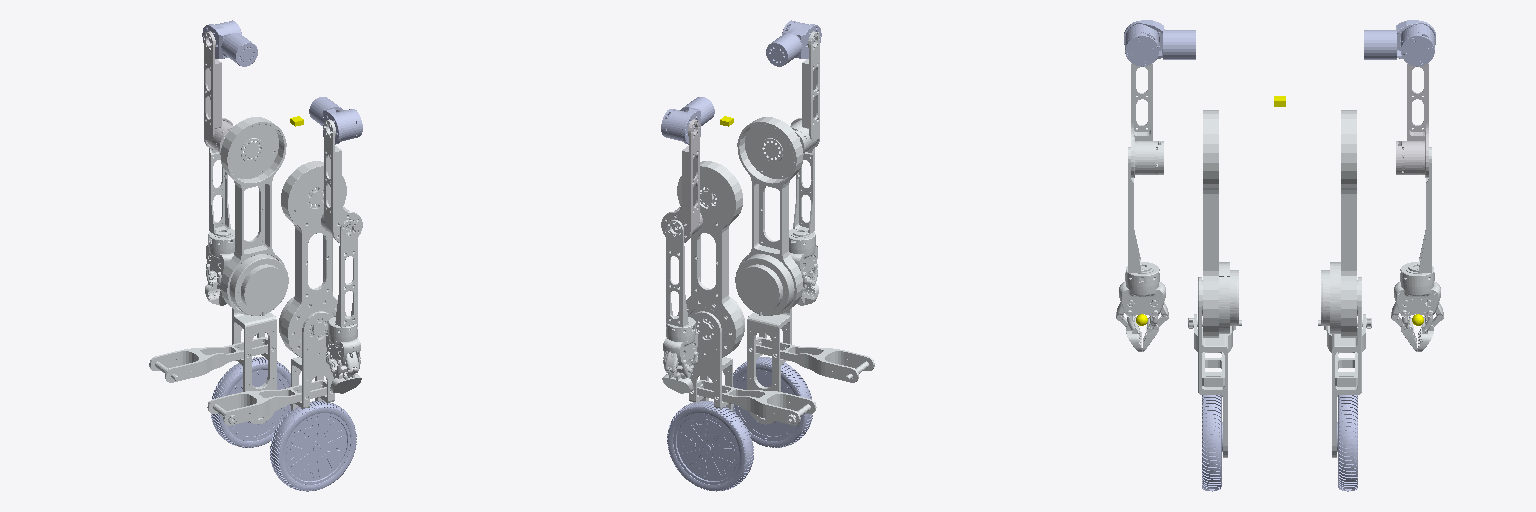
robot.urdf — JC04:
<?xml version="1.0" encoding="utf-8" ?>
<!-- This URDF was automatically created by SolidWorks to URDF Exporter! Originally created by Stephen Brawner (brawner@gmail.com) 
     Commit Version: 1.6.0-4-g7f85cfe  Build Version: 1.6.7995.38578
     For more information, please see http://wiki.ros.org/sw_urdf_exporter -->
<robot name="JC04">

  <link name="base_link" />
  <joint name="base_joint" type="fixed">
    <origin xyz="0.0 0.0 0.0" rpy="0.0 0.0 0.0"/>
    <parent link="base_link"/>
    <child link="robot_base"/>
  </joint>

  <link name="robot_base">
    <inertial>
      <origin
        xyz="0.00279599028785659 -0.00309527896029086 0.00100528530573224"
        rpy="0 0 0" />
      <mass value="4.65227042570059" />
      <inertia
        ixx="0.0124772773687596"
        ixy="6.25370320375245E-06"
        ixz="5.33449617362527E-05"
        iyy="0.00973857901859492"
        iyz="-9.29371193543139E-07"
        izz="0.0118237873542649" />
    </inertial>
    <visual>
      <origin
        xyz="0 0 0"
        rpy="0 0 0" />
      <geometry>
        <mesh
          filename="../meshes/robot_base.STL" />
      </geometry>
      <material
        name="">
        <color
          rgba="0.698039215686274 0.698039215686274 0.698039215686274 1" />
      </material>
    </visual>
    <collision>
      <origin
        xyz="0 0 0"
        rpy="0 0 0" />
      <geometry>
        <mesh
          filename="../meshes/robot_base.STL" />
      </geometry>
    </collision>
  </link>
  <link  name="imu_link">
    <inertial>
      <origin xyz="0.0 0.0 0.0" rpy="0.0 0.0 0.0"></origin>
      <mass value="0.0"></mass>
      <inertia ixx="0.0" ixy="0.0" ixz="0.0" iyy="0.0" iyz="0.0" izz="0.0"></inertia>
    </inertial>
    <visual>
      <origin xyz="0.0 0.0 0.0" rpy="0.0 0.0 0.0"></origin>
      <geometry>
        <box size="0.02 0.02 0.01"></box>
      </geometry>
      <material name="yellow">
        <color rgba="1 1 0 1" />
      </material>
    </visual>
    <collision>
      <origin xyz="0.0 0.0 0.0" rpy="0.0 0.0 0.0"></origin>
      <geometry>
        <box size="0.02 0.02 0.01"></box>
      </geometry>
    </collision>
  </link>
  <joint name="imu_joint" type="fixed">
    <origin xyz="0.03 0.0 0.005" rpy="0.0 0.0 0.0"/>
    <parent link="robot_base"/>
    <child link="imu_link"/>
  </joint>


  <link name="right_hip_pitch_link">
    <inertial>
      <origin
        xyz="2.2401864532628E-05 -7.01518108221916E-05 -0.119089068297364"
        rpy="0 0 0" />
      <mass
        value="0.835029440654341" />
      <inertia
        ixx="0.0128640884370142"
        ixy="-1.01573799175438E-07"
        ixz="1.43969539586498E-06"
        iyy="0.0139177008224207"
        iyz="-7.20971608196484E-05"
        izz="0.00115185690918774" />
    </inertial>
    <visual>
      <origin
        xyz="0 0 0"
        rpy="0 0 0" />
      <geometry>
        <mesh
          filename="../meshes/right_hip_pitch_link.STL" />
      </geometry>
      <material
        name="">
        <color
          rgba="0.898039215686275 0.917647058823529 0.929411764705882 1" />
      </material>
    </visual>
    <collision>
      <origin
        xyz="0 0 0"
        rpy="0 0 0" />
      <geometry>
        <mesh
          filename="../meshes/right_hip_pitch_link.STL" />
      </geometry>
    </collision>
  </link>
  <joint name="right_hip_pitch" type="revolute">
    <origin
      xyz="0 -0.1205 -0.098"
      rpy="0 0 0" />
    <parent
      link="robot_base" />
    <child
      link="right_hip_pitch_link" />
    <axis
      xyz="0 1 0" />
    <limit
      lower="-1.5708"
      upper="1.5708"
      effort="100.0"
      velocity="100.0" />
  </joint>
  <link name="right_knee_pitch_link">
    <inertial>
      <origin
        xyz="-0.0370926236175052 0.0102934790640932 -0.118658382266855"
        rpy="0 0 0" />
      <mass
        value="0.758037246379502" />
      <inertia
        ixx="0.00391729912353151"
        ixy="-2.74945911506093E-09"
        ixz="7.97046637729609E-15"
        iyy="0.00469716796826955"
        iyz="-0.000585098402656398"
        izz="0.00138299752551484" />
    </inertial>
    <visual>
      <origin
        xyz="0 0 0"
        rpy="0 0 0" />
      <geometry>
        <mesh
          filename="../meshes/right_knee_pitch_link.STL" />
      </geometry>
      <material
        name="">
        <color
          rgba="0.898039215686275 0.917647058823529 0.929411764705882 1" />
      </material>
    </visual>
    <collision>
      <origin
        xyz="0 0 0"
        rpy="0 0 0" />
      <geometry>
        <mesh
          filename="../meshes/right_knee_pitch_link.STL" />
      </geometry>
    </collision>
  </link>
  <joint name="right_knee_pitch" type="revolute">
    <origin
      xyz="0 -0.0025 -0.275"
      rpy="0 0 0" />
    <parent
      link="right_hip_pitch_link" />
    <child
      link="right_knee_pitch_link" />
    <axis
      xyz="0 -1 0" />
    <limit
      lower="-1.5708"
      upper="1.5708"
      effort="100.0"
      velocity="100.0" />
  </joint>
  <link name="right_driving_wheel">
    <inertial>
      <origin
        xyz="-1.39109638608807E-07 0.000947014268736196 3.5371749776969E-06"
        rpy="0 0 0" />
      <mass
        value="0.63865544033292" />
      <inertia
        ixx="0.00125776029366537"
        ixy="-1.01616021250209E-09"
        ixz="-1.36649916006925E-10"
        iyy="0.00241337774863598"
        iyz="-4.41959293887157E-08"
        izz="0.00125808821267324" />
    </inertial>
    <visual>
      <origin
        xyz="0 0 0"
        rpy="0 0 0" />
      <geometry>
        <mesh
          filename="../meshes/right_driving_wheel.STL" />
      </geometry>
      <material
        name="">
        <color
          rgba="0.792156862745098 0.819607843137255 0.933333333333333 1" />
      </material>
    </visual>
    <collision>
      <!-- <origin xyz="0 0 0" rpy="0 0 0" />
      <geometry>
        <mesh filename="../meshes/right_driving_wheel.STL" />
      </geometry> -->
      <origin xyz="0 0 0" rpy="1.5708 0 0" />
      <geometry>
        <cylinder length="0.03" radius="0.09" />
      </geometry>
    </collision>
  </link>
  <joint name="right_wheel_joint" type="continuous">
    <origin
      xyz="0 0.0087 -0.257"
      rpy="0 0 0" />
    <parent
      link="right_knee_pitch_link" />
    <child
      link="right_driving_wheel" />
    <axis
      xyz="0 1 0" />
    <limit
      effort="100.0"
      velocity="100.0" />
  </joint>
  <link name="right_assist_wheel">
    <inertial>
      <origin
        xyz="1.26617332915635E-06 1.16008196243689E-08 -2.83137595435967E-06"
        rpy="0 0 0" />
      <mass
        value="0.279818998339655" />
      <inertia
        ixx="0.000330068456792498"
        ixy="-3.04722997571781E-09"
        ixz="-1.32284902672776E-08"
        iyy="0.000573287074626127"
        iyz="-1.36068546863382E-09"
        izz="0.000330045382623104" />
    </inertial>
    <visual>
      <origin
        xyz="0 0 0"
        rpy="0 0 0" />
      <geometry>
        <mesh
          filename="../meshes/right_assist_wheel.STL" />
      </geometry>
      <material
        name="">
        <color
          rgba="0.752941176470588 0.752941176470588 0.752941176470588 1" />
      </material>
    </visual>
    <collision>
      <!-- <origin xyz="0 0 0" rpy="0 0 0" />
      <geometry>
        <mesh filename="../meshes/right_assist_wheel.STL" />
      </geometry> -->
      <origin xyz="0 0 0" rpy="1.5708 0 0" />
      <geometry>
        <cylinder length="0.044" radius="0.063" />
      </geometry>
    </collision>
  </link>
  <joint name="right_assist" type="fixed">
    <origin
      xyz="-0.2 0.011 -0.13951"
      rpy="0 0 0" />
    <parent
      link="right_knee_pitch_link" />
    <child
      link="right_assist_wheel" />
    <axis
      xyz="0 0 0" />
  </joint>


  <link name="left_hip_pitch_link">
    <inertial>
      <origin
        xyz="-2.24018645326727E-05 7.01518108218585E-05 -0.119089068297364"
        rpy="0 0 0" />
      <mass
        value="0.835029440654342" />
      <inertia
        ixx="0.0128640884370142"
        ixy="-1.0157379917552E-07"
        ixz="-1.43969539586481E-06"
        iyy="0.0139177008224208"
        iyz="7.209716081968E-05"
        izz="0.00115185690918775" />
    </inertial>
    <visual>
      <origin
        xyz="0 0 0"
        rpy="0 0 0" />
      <geometry>
        <mesh
          filename="../meshes/left_hip_pitch_link.STL" />
      </geometry>
      <material
        name="">
        <color
          rgba="0.898039215686275 0.917647058823529 0.929411764705882 1" />
      </material>
    </visual>
    <collision>
      <origin
        xyz="0 0 0"
        rpy="0 0 0" />
      <geometry>
        <mesh
          filename="../meshes/left_hip_pitch_link.STL" />
      </geometry>
    </collision>
  </link>
  <joint name="left_hip_pitch" type="revolute">
    <origin
      xyz="0 0.1205 -0.098"
      rpy="0 0 0" />
    <parent
      link="robot_base" />
    <child
      link="left_hip_pitch_link" />
    <axis
      xyz="0 1 0" />
    <limit
      lower="-1.5708"
      upper="1.5708"
      effort="100.0"
      velocity="100.0" />
  </joint>
  <link name="left_knee_pitch_link">
    <inertial>
      <origin
        xyz="-0.0370926236175317 -0.0102935438956814 -0.118658382266885"
        rpy="0 0 0" />
      <mass
        value="0.758037246379501" />
      <inertia
        ixx="0.00391729912353151"
        ixy="-2.7494582745576E-09"
        ixz="-7.97158747603537E-15"
        iyy="0.00469716796826954"
        iyz="0.000585098298460312"
        izz="0.00138299752551484" />
    </inertial>
    <visual>
      <origin
        xyz="0 0 0"
        rpy="0 0 0" />
      <geometry>
        <mesh
          filename="../meshes/left_knee_pitch_link.STL" />
      </geometry>
      <material
        name="">
        <color
          rgba="0.898039215686275 0.917647058823529 0.929411764705882 1" />
      </material>
    </visual>
    <collision>
      <origin
        xyz="0 0 0"
        rpy="0 0 0" />
      <geometry>
        <mesh
          filename="../meshes/left_knee_pitch_link.STL" />
      </geometry>
    </collision>
  </link>
  <joint name="left_knee_pitch" type="revolute">
    <origin
      xyz="0 0.0025 -0.275"
      rpy="0 0 0" />
    <parent
      link="left_hip_pitch_link" />
    <child
      link="left_knee_pitch_link" />
    <axis
      xyz="0 -1 0" />
    <limit
      lower="-1.5708"
      upper="1.5708"
      effort="100.0"
      velocity="100.0" />
  </joint>
  <link name="left_driving_wheel">
    <inertial>
      <origin
        xyz="1.3910963880233E-07 -0.00094701426873621 3.53717497736383E-06"
        rpy="0 0 0" />
      <mass
        value="0.638655440332923" />
      <inertia
        ixx="0.00125776029366308"
        ixy="-1.01616021285817E-09"
        ixz="1.36649910906935E-10"
        iyy="0.00241337774863368"
        iyz="4.41959293914977E-08"
        izz="0.00125808821267324" />
    </inertial>
    <visual>
      <origin
        xyz="0 0 0"
        rpy="0 0 0" />
      <geometry>
        <mesh
          filename="../meshes/left_driving_wheel.STL" />
      </geometry>
      <material
        name="">
        <color
          rgba="0.792156862745098 0.819607843137255 0.933333333333333 1" />
      </material>
    </visual>
    <collision>
      <!-- <origin xyz="0 0 0" rpy="0 0 0" />
      <geometry>
        <mesh filename="../meshes/left_driving_wheel.STL" />
      </geometry> -->
      <origin xyz="0 0 0" rpy="-1.5708 0 0" />
      <geometry>
        <cylinder length="0.03" radius="0.09" />
      </geometry>
    </collision>
  </link>
  <joint name="left_wheel_joint" type="continuous">
    <origin
      xyz="0 -0.0087 -0.257"
      rpy="0 0 0" />
    <parent
      link="left_knee_pitch_link" />
    <child
      link="left_driving_wheel" />
    <axis
      xyz="0 1 0" />
    <limit
      effort="100.0"
      velocity="100.0" />
  </joint>
  <link name="left_assist_wheel">
    <inertial>
      <origin
        xyz="2.86482405698063E-06 9.86627492205461E-09 1.1880404016118E-06"
        rpy="0 0 0" />
      <mass
        value="0.279818886368346" />
      <inertia
        ixx="0.000330044572565077"
        ixy="1.27663722832215E-09"
        ixz="1.25760749444105E-08"
        iyy="0.000573286890349861"
        iyz="-3.08379978667986E-09"
        izz="0.000330069062722403" />
    </inertial>
    <visual>
      <origin
        xyz="0 0 0"
        rpy="0 0 0" />
      <geometry>
        <mesh
          filename="../meshes/left_assist_wheel.STL" />
      </geometry>
      <material
        name="">
        <color
          rgba="0.752941176470588 0.752941176470588 0.752941176470588 1" />
      </material>
    </visual>
    <collision>
      <!-- <origin xyz="0 0 0" rpy="0 0 0" />
      <geometry>
        <mesh filename="../meshes/left_assist_wheel.STL" />
      </geometry> -->
      <origin xyz="0 0 0" rpy="-1.5708 0 0" />
      <geometry>
        <cylinder length="0.044" radius="0.063" />
      </geometry>
    </collision>
  </link>
  <joint name="left_assist" type="fixed">
    <origin
      xyz="-0.2 -0.011 -0.13951"
      rpy="0 0 0" />
    <parent
      link="left_knee_pitch_link" />
    <child
      link="left_assist_wheel" />
    <axis
      xyz="0 0 0" />
  </joint>


  <link name="right_shoulder_pitch_link">
    <inertial>
      <origin
        xyz="-0.00585417482108038 9.52809515329667E-06 0.0375144921098239"
        rpy="0 0 0" />
      <mass
        value="0.0635419817425983" />
      <inertia
        ixx="7.43610063397952E-05"
        ixy="-4.25752984036391E-09"
        ixz="-1.55304093438244E-05"
        iyy="7.27467171836457E-05"
        iyz="1.86114889179868E-08"
        izz="3.66587397490808E-05" />
    </inertial>
    <visual>
      <origin
        xyz="0 0 0"
        rpy="0 0 0" />
      <geometry>
        <mesh
          filename="../meshes/right_shoulder_pitch_link.STL" />
      </geometry>
      <material
        name="">
        <color
          rgba="0.792156862745098 0.819607843137255 0.933333333333333 1" />
      </material>
    </visual>
    <collision>
      <origin
        xyz="0 0 0"
        rpy="0 0 0" />
      <geometry>
        <mesh
          filename="../meshes/right_shoulder_pitch_link.STL" />
      </geometry>
    </collision>
  </link>
  <joint name="right_shoulder_pitch" type="revolute">
    <origin
      xyz="0 -0.141 0.096"
      rpy="1.5708 0 0" />
    <parent
      link="robot_base" />
    <child
      link="right_shoulder_pitch_link" />
    <axis
      xyz="0 0 1" />
    <limit
      lower="-3.1416"
      upper="3.1416"
      effort="100.0"
      velocity="100.0" />
  </joint>
  <link name="right_shoulder_roll_link">
    <inertial>
      <origin
        xyz="-0.12002540538697 0.00316375976277605 0.00362387585358725"
        rpy="0 0 0" />
      <mass
        value="0.15979125931168" />
      <inertia
        ixx="6.1224200840068E-05"
        ixy="-4.40183246102279E-05"
        ixz="-7.22741795913562E-05"
        iyy="0.000829332996020636"
        iyz="9.86607542060078E-06"
        izz="0.000828129978269191" />
    </inertial>
    <visual>
      <origin
        xyz="0 0 0"
        rpy="0 0 0" />
      <geometry>
        <mesh
          filename="../meshes/right_shoulder_roll_link.STL" />
      </geometry>
      <material
        name="">
        <color
          rgba="0.898039215686275 0.917647058823529 0.929411764705882 1" />
      </material>
    </visual>
    <collision>
      <origin
        xyz="0 0 0"
        rpy="0 0 0" />
      <geometry>
        <mesh
          filename="../meshes/right_shoulder_roll_link.STL" />
      </geometry>
    </collision>
  </link>
  <joint name="right_shoulder_roll" type="revolute">
    <origin
      xyz="-0.026 0 0.09"
      rpy="1.5708 0 1.5708" />
    <parent
      link="right_shoulder_pitch_link" />
    <child
      link="right_shoulder_roll_link" />
    <axis
      xyz="0 0 -1" />
    <limit
      lower="0"
      upper="3.1416"
      effort="100.0"
      velocity="100.0" />
  </joint>
  <link name="right_elbow_pitch_link">
    <inertial>
      <origin
        xyz="0.000170563838991317 -0.129453686859726 0.0014621063155601"
        rpy="0 0 0" />
      <mass
        value="0.124323016491181" />
      <inertia
        ixx="0.0005174170410046"
        ixy="1.69448086141307E-07"
        ixz="9.03167635139747E-09"
        iyy="4.08467941001226E-05"
        iyz="-2.03747158813545E-05"
        izz="0.000530347087134447" />
    </inertial>
    <visual>
      <origin
        xyz="0 0 0"
        rpy="0 0 0" />
      <geometry>
        <mesh
          filename="../meshes/right_elbow_pitch_link.STL" />
      </geometry>
      <material
        name="">
        <color
          rgba="0.898039215686275 0.917647058823529 0.929411764705882 1" />
      </material>
    </visual>
    <collision>
      <origin
        xyz="0 0 0"
        rpy="0 0 0" />
      <geometry>
        <mesh
          filename="../meshes/right_elbow_pitch_link.STL" />
      </geometry>
    </collision>
  </link>
  <joint name="right_elbow_pitch" type="revolute">
    <origin
      xyz="-0.21 0.0154999999999963 0.025"
      rpy="1.5707963267949 1.5707963267949 0" />
    <parent
      link="right_shoulder_roll_link" />
    <child
      link="right_elbow_pitch_link" />
    <axis
      xyz="0 0 -1" />
    <limit
      lower="-1.5708"
      upper="2.3562"
      effort="100.0"
      velocity="100.0" />
  </joint>


  <link name="right_gripper">
    <inertial>
      <origin xyz="0 0 0" rpy="0 0 0" />
      <mass value="0.0" />
      <inertia
        ixx="0.0"
        ixy="0.0"
        ixz="0.0"
        iyy="0.0"
        iyz="0.0"
        izz="0.0" />
    </inertial>
    <visual>
      <origin xyz="0 0 0" rpy="0 0 0" />
      <geometry>
        <sphere radius="0.01" />
      </geometry>
      <material name="yellow">
        <color rgba="1 1 0 1" />
      </material>
    </visual>
    <collision>
      <origin xyz="0 0 0" rpy="0 0 0" />
      <geometry>
        <sphere radius="0.01" />
      </geometry>
    </collision>
  </link>
  <joint name="right_gripper_joint" type="fixed">
    <origin xyz="0 -0.30 0.015" rpy="1.5708 0 -1.5708" />
    <parent link="right_elbow_pitch_link" />
    <child link="right_gripper" />
  </joint>


  <link name="left_shoulder_pitch_link">
    <inertial>
      <origin
        xyz="-0.00585417482108038 -9.5280951533383E-06 -0.0375144921098237"
        rpy="0 0 0" />
      <mass
        value="0.0635419817425984" />
      <inertia
        ixx="7.43610063397949E-05"
        ixy="4.25752984035132E-09"
        ixz="1.55304093438244E-05"
        iyy="7.27467171836455E-05"
        iyz="1.86114889179736E-08"
        izz="3.66587397490808E-05" />
    </inertial>
    <visual>
      <origin
        xyz="0 0 0"
        rpy="0 0 0" />
      <geometry>
        <mesh
          filename="../meshes/left_shoulder_pitch_link.STL" />
      </geometry>
      <material
        name="">
        <color
          rgba="0.792156862745098 0.819607843137255 0.933333333333333 1" />
      </material>
    </visual>
    <collision>
      <origin
        xyz="0 0 0"
        rpy="0 0 0" />
      <geometry>
        <mesh
          filename="../meshes/left_shoulder_pitch_link.STL" />
      </geometry>
    </collision>
  </link>
  <joint name="left_shoulder_pitch" type="revolute">
    <origin
      xyz="0 0.141 0.096"
      rpy="1.5707963267949 0 0" />
    <parent
      link="robot_base" />
    <child
      link="left_shoulder_pitch_link" />
    <axis
      xyz="0 0 1" />
    <limit
      lower="-3.1416"
      upper="3.1416"
      effort="100.0"
      velocity="100.0" />
  </joint>
  <link name="left_shoulder_roll_link">
    <inertial>
      <origin
        xyz="-0.120025356266729 -0.00316374959691668 0.0036238791338875"
        rpy="0 0 0" />
      <mass
        value="0.159791117607463" />
      <inertia
        ixx="6.12241815102793E-05"
        ixy="4.40182238636969E-05"
        ixz="-7.22348579157987E-05"
        iyy="0.000829332551771882"
        iyz="-9.86608337984997E-06"
        izz="0.000828129531131531" />
    </inertial>
    <visual>
      <origin
        xyz="0 0 0"
        rpy="0 0 0" />
      <geometry>
        <mesh
          filename="../meshes/left_shoulder_roll_link.STL" />
      </geometry>
      <material
        name="">
        <color
          rgba="0.866666666666667 0.866666666666667 0.890196078431372 1" />
      </material>
    </visual>
    <collision>
      <origin
        xyz="0 0 0"
        rpy="0 0 0" />
      <geometry>
        <mesh
          filename="../meshes/left_shoulder_roll_link.STL" />
      </geometry>
    </collision>
  </link>
  <joint name="left_shoulder_roll" type="revolute">
    <origin
      xyz="-0.025999999999997 0 -0.09"
      rpy="1.5707963267949 0 1.5707963267949" />
    <parent
      link="left_shoulder_pitch_link" />
    <child
      link="left_shoulder_roll_link" />
    <axis
      xyz="0 0 1" />
    <limit
      lower="0"
      upper="3.1416"
      effort="100.0"
      velocity="100.0" />
  </joint>
  <link name="left_elbow_pitch_link">
    <inertial>
      <origin
        xyz="-0.000170564007737758 -0.12945368685972 -0.00146210663503957"
        rpy="0 0 0" />
      <mass
        value="0.124323016491182" />
      <inertia
        ixx="0.000517417041038377"
        ixy="-1.69448259420353E-07"
        ixz="9.03169892633798E-09"
        iyy="4.08467941000795E-05"
        iyz="2.03747155641419E-05"
        izz="0.000530347087100584" />
    </inertial>
    <visual>
      <origin
        xyz="0 0 0"
        rpy="0 0 0" />
      <geometry>
        <mesh
          filename="../meshes/left_elbow_pitch_link.STL" />
      </geometry>
      <material
        name="">
        <color
          rgba="0.898039215686275 0.917647058823529 0.929411764705882 1" />
      </material>
    </visual>
    <collision>
      <origin
        xyz="0 0 0"
        rpy="0 0 0" />
      <geometry>
        <mesh
          filename="../meshes/left_elbow_pitch_link.STL" />
      </geometry>
    </collision>
  </link>
  <joint name="left_elbow_pitch" type="revolute">
    <origin
      xyz="-0.21 -0.0154999999999967 0.025"
      rpy="1.5707963267949 1.5707963267949 0" />
    <parent
      link="left_shoulder_roll_link" />
    <child
      link="left_elbow_pitch_link" />
    <axis
      xyz="0 0 -1" />
    <limit
      lower="-1.5708"
      upper="2.3562"
      effort="100.0"
      velocity="100.0" />
  </joint>


  <link name="left_gripper">
    <inertial>
      <origin xyz="0 0 0" rpy="0 0 0" />
      <mass value="0.0" />
      <inertia
        ixx="0.0"
        ixy="0.0"
        ixz="0.0"
        iyy="0.0"
        iyz="0.0"
        izz="0.0" />
    </inertial>
    <visual>
      <origin xyz="0 0 0" rpy="0 0 0" />
      <geometry>
        <sphere radius="0.01" />
      </geometry>
      <material name="yellow">
        <color rgba="1 1 0 1" />
      </material>
    </visual>
    <collision>
      <origin xyz="0 0 0" rpy="0 0 0" />
      <geometry>
        <sphere radius="0.01" />
      </geometry>
    </collision>
  </link>
  <joint name="left_gripper_joint" type="fixed">
    <origin xyz="0 -0.30 -0.015" rpy="1.5708 0 -1.5708" />
    <parent link="left_elbow_pitch_link" />
    <child link="left_gripper" />
  </joint>

</robot>

--- Render facts (derived) ---
The picture shows the robot from 3 angles, left to right: view 1: azimuth 30°, elevation 25°; view 2: azimuth 150°, elevation 25°; view 3: azimuth 270°, elevation 25°; orthographic projection.
Model JC04 with 19 links and 18 joints (10 revolute, 2 continuous, 6 fixed), rooted at base_link, posed all joints at 0.
Links seen in each view (by area): view 1: left_hip_pitch_link, right_driving_wheel, right_hip_pitch_link, right_knee_pitch_link, left_knee_pitch_link, right_elbow_pitch_link, left_driving_wheel, left_elbow_pitch_link, right_shoulder_roll_link, left_shoulder_roll_link, left_shoulder_pitch_link, right_shoulder_pitch_link; view 2: right_hip_pitch_link, left_driving_wheel, left_hip_pitch_link, left_knee_pitch_link, right_knee_pitch_link, left_elbow_pitch_link, right_driving_wheel, right_elbow_pitch_link, left_shoulder_roll_link, right_shoulder_roll_link, right_shoulder_pitch_link, left_shoulder_pitch_link; view 3: right_hip_pitch_link, left_hip_pitch_link, right_elbow_pitch_link, left_elbow_pitch_link, right_shoulder_pitch_link, left_shoulder_pitch_link, right_knee_pitch_link, left_knee_pitch_link, right_shoulder_roll_link, left_shoulder_roll_link, left_driving_wheel, right_driving_wheel.
Link boxes in pixels (x1,y1,x2,y2): left_hip_pitch_link: [220, 117, 288, 315]; right_driving_wheel: [270, 401, 356, 491]; right_hip_pitch_link: [279, 161, 346, 357]; right_knee_pitch_link: [207, 311, 334, 425]; left_knee_pitch_link: [149, 308, 276, 424]; right_elbow_pitch_link: [326, 220, 361, 393]; left_driving_wheel: [211, 357, 290, 447]; left_elbow_pitch_link: [205, 148, 234, 305]; right_shoulder_roll_link: [321, 119, 362, 242]; left_shoulder_roll_link: [204, 31, 233, 152]; left_shoulder_pitch_link: [202, 20, 257, 66]; right_shoulder_pitch_link: [309, 97, 362, 144]; right_hip_pitch_link: [735, 117, 803, 315]; left_driving_wheel: [667, 401, 753, 491]; left_hip_pitch_link: [677, 161, 744, 357]; left_knee_pitch_link: [689, 311, 816, 425]; right_knee_pitch_link: [747, 308, 874, 424]; left_elbow_pitch_link: [662, 220, 698, 393]; right_driving_wheel: [733, 357, 812, 447]; right_elbow_pitch_link: [789, 148, 818, 305]; left_shoulder_roll_link: [661, 119, 702, 242]; right_shoulder_roll_link: [790, 31, 819, 152]; right_shoulder_pitch_link: [766, 20, 821, 66]; left_shoulder_pitch_link: [661, 97, 714, 144]; right_hip_pitch_link: [1203, 110, 1238, 337]; left_hip_pitch_link: [1321, 110, 1356, 337]; right_elbow_pitch_link: [1116, 147, 1168, 351]; left_elbow_pitch_link: [1391, 147, 1443, 351]; right_shoulder_pitch_link: [1124, 20, 1195, 66]; left_shoulder_pitch_link: [1364, 20, 1435, 66]; right_knee_pitch_link: [1188, 277, 1241, 457]; left_knee_pitch_link: [1318, 277, 1371, 457]; right_shoulder_roll_link: [1131, 63, 1163, 177]; left_shoulder_roll_link: [1396, 63, 1428, 177]; left_driving_wheel: [1337, 395, 1357, 491]; right_driving_wheel: [1202, 395, 1222, 491].
Bounding box of the posed robot: 0.3061 × 0.5491 × 0.8486 m (x, y, z).
12 mesh visuals loaded from 15 distinct referenced files (12 binary STL); not drawn: 3 (reference not matched to a file when rendering).
